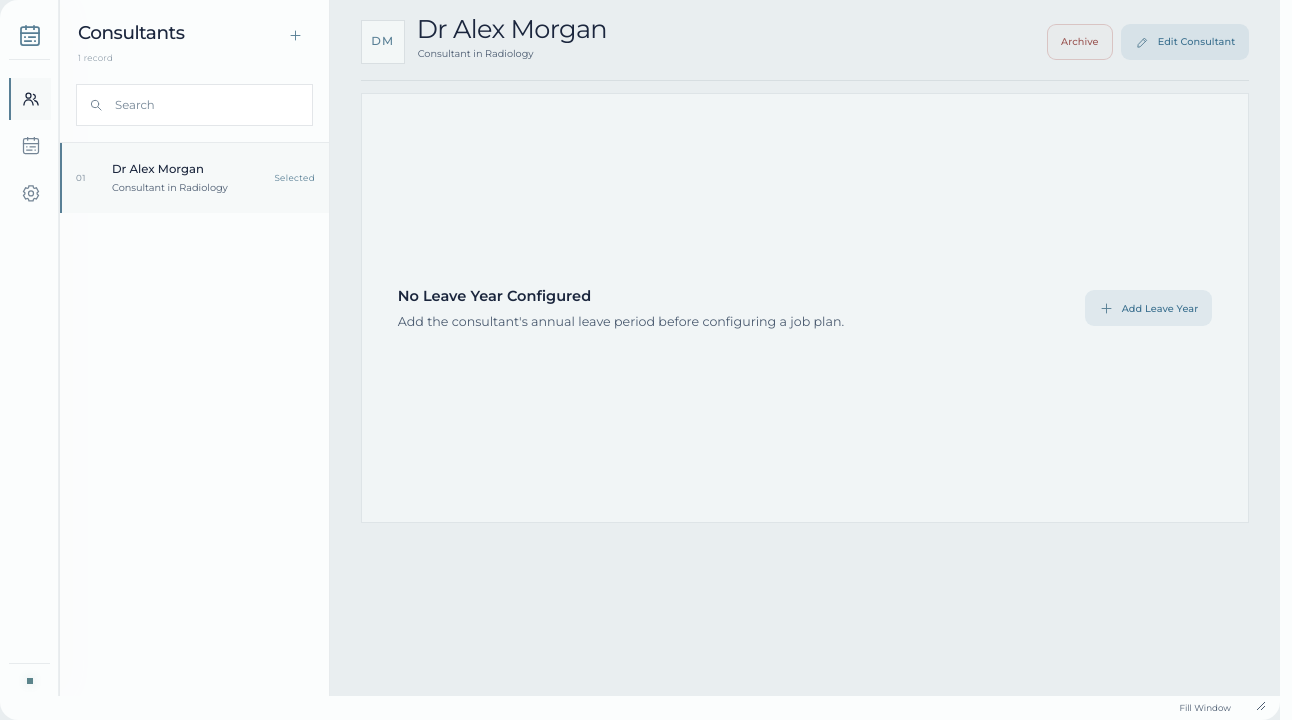
Scenario: consultant directory › filters the consultant directory without changing the selected workspace
The width and height of the screenshot is (1292, 720).
Expected: the heading "Dr Alex Morgan" is shown, [417,16,607,43]
Type "missing" into the search field labelled "Search". click: (208, 105)
box: [104,85,312,125]
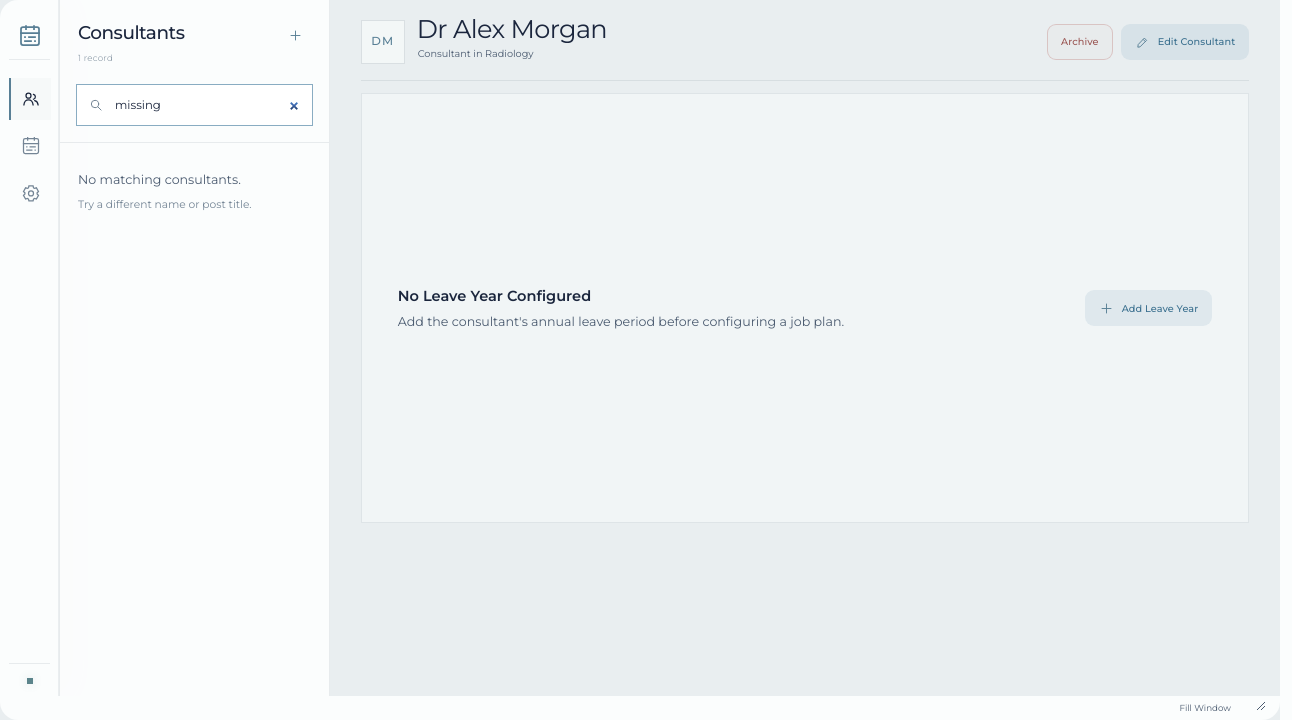
Expected: the heading "Dr Alex Morgan" is shown, [417,16,607,43]
Expected: the text "No matching consultants." is shown, [78,172,241,187]
Clear the search field named "Search". click: (208, 105)
box: [104,85,312,125]
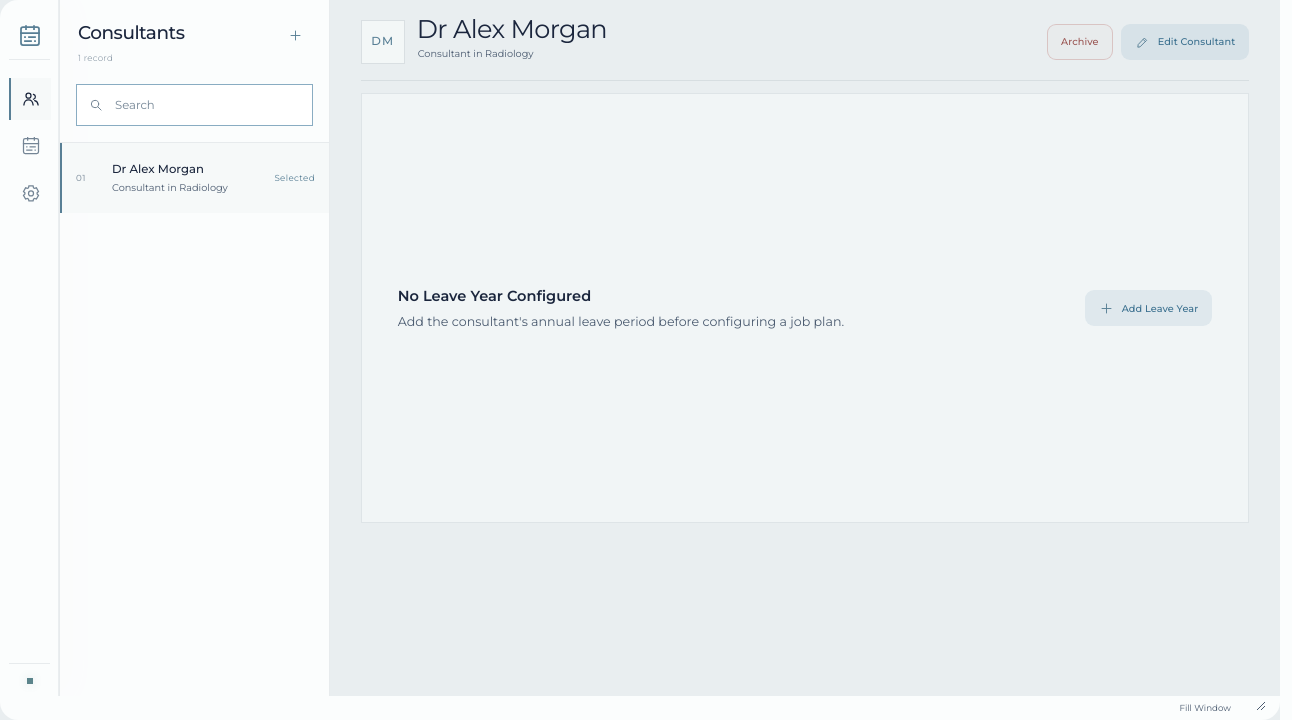
Expected: the text "No matching consultants." is gone
